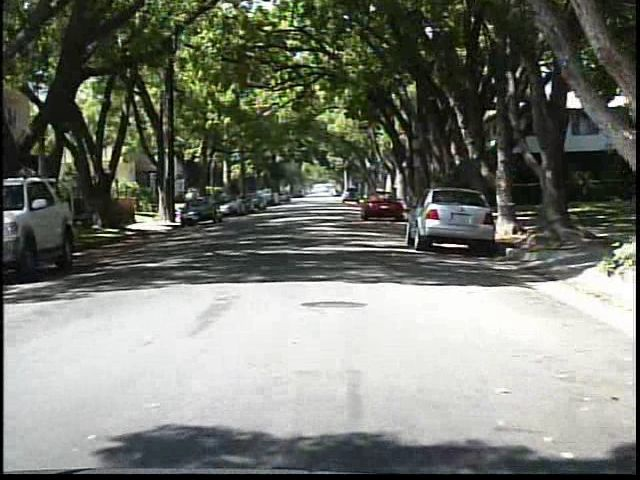person: (182, 185, 200, 218)
